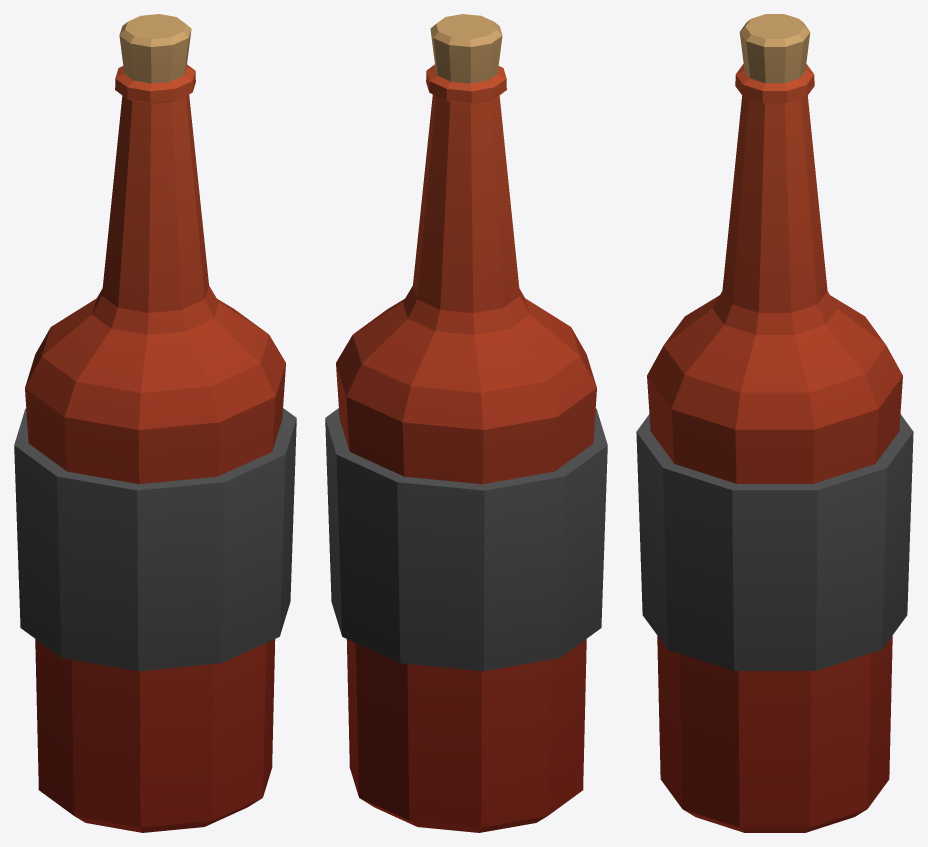
The model's file is bottle-2.glb.
3 renders of one model, left to right at view 1: azimuth 30°, elevation 25°; view 2: azimuth 150°, elevation 25°; view 3: azimuth 270°, elevation 25°, orthographic.
Visible parts, largest first — view 1: bottle 2; view 2: bottle 2; view 3: bottle 2.
Boxes of the visible parts, x1,y1,x2,y2 form: bottle 2: [14, 14, 296, 832]; bottle 2: [325, 14, 607, 832]; bottle 2: [636, 14, 913, 832].
Bounding box in the file's own units: 0.0974 × 0.2966 × 0.0974.
Materials: 1 (1 with a texture image).
